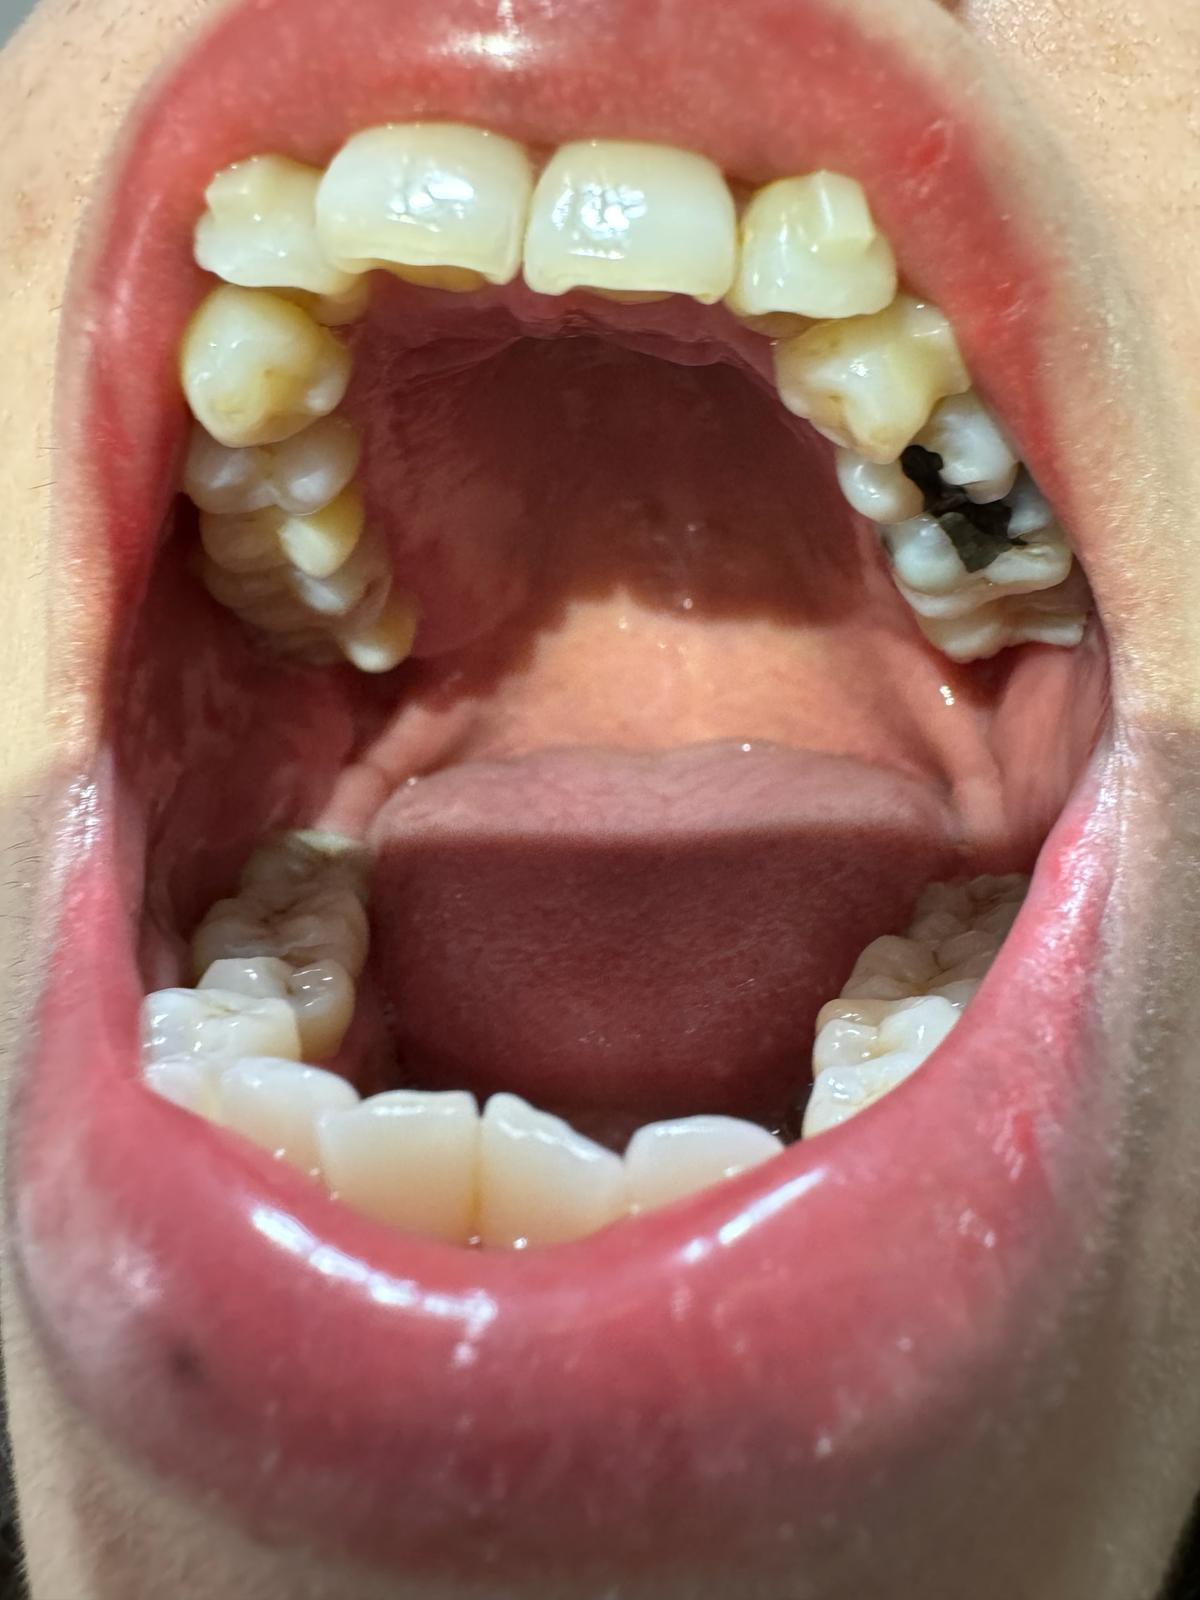teeth: (314, 129, 524, 289), (192, 155, 348, 321), (782, 307, 959, 452), (541, 154, 715, 300), (740, 181, 894, 334), (207, 297, 343, 442), (836, 421, 1016, 527), (194, 428, 344, 506)
